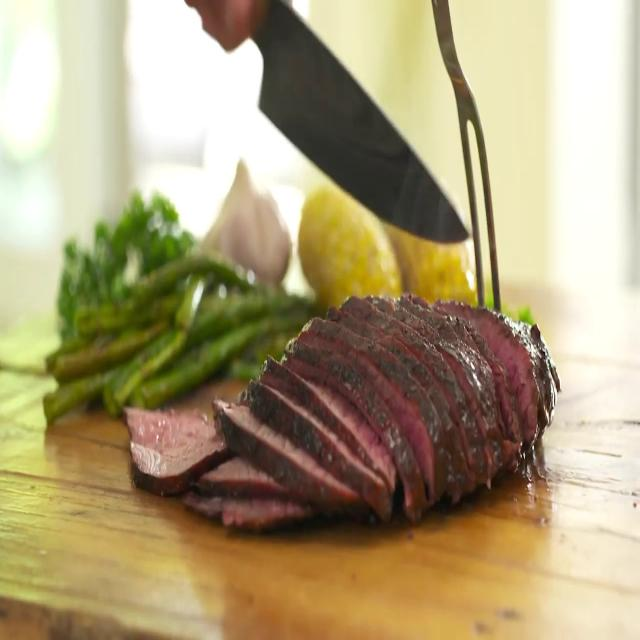Knife: (183, 0, 471, 246)
